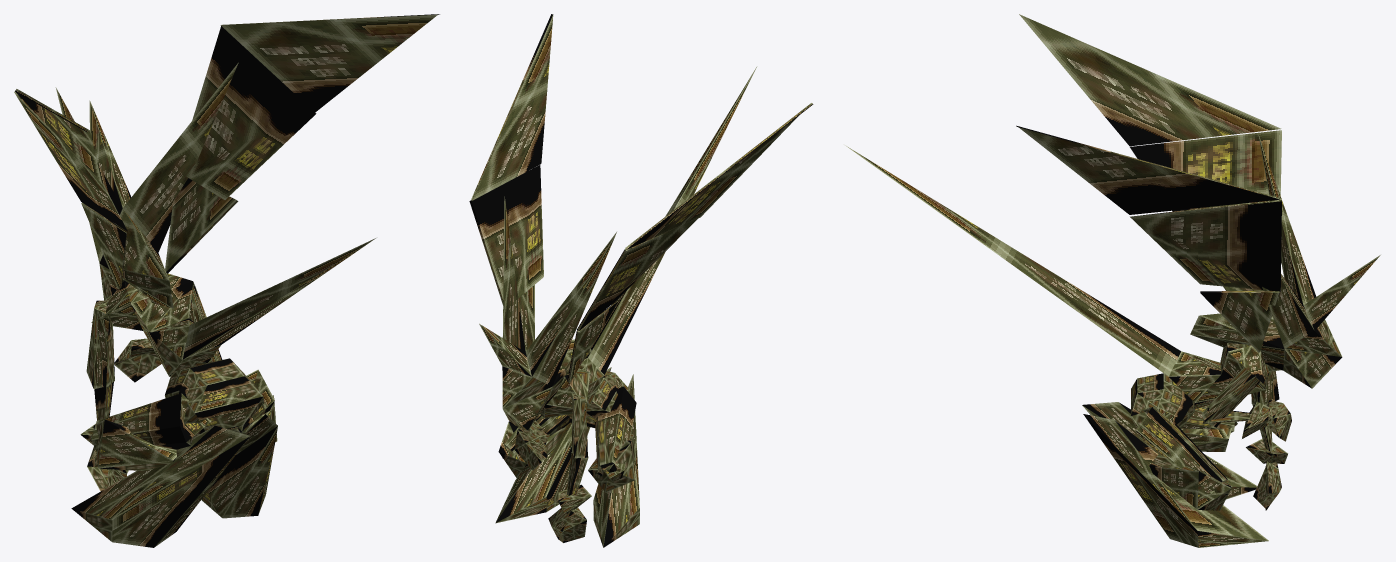
The picture shows the model from 3 angles, left to right: view 1: azimuth 30°, elevation 25°; view 2: azimuth 150°, elevation 25°; view 3: azimuth 270°, elevation 25°; orthographic projection. The views are drawn at different scales.
Parts seen in each view (by area): view 1: prim118-srwingtop; view 2: prim118-srwingtop; view 3: prim118-srwingtop.
Boxes of the visible parts, x1,y1,x2,y2 form: prim118-srwingtop: [14, 14, 439, 547]; prim118-srwingtop: [469, 14, 813, 547]; prim118-srwingtop: [845, 14, 1380, 547].
Bounding box in the file's own units: 263 × 395 × 428.
1 material, 1 textured.
